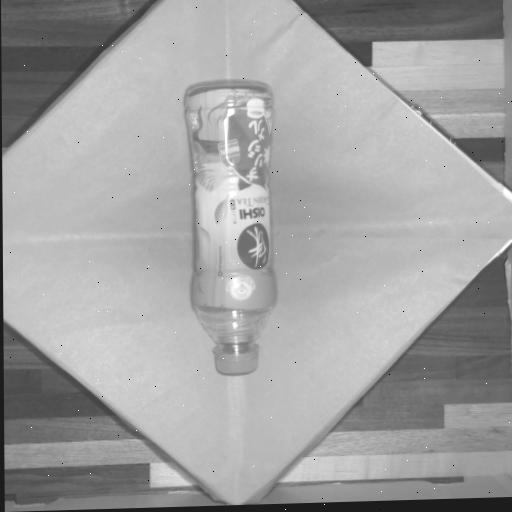bottle: (164, 65, 302, 393)
